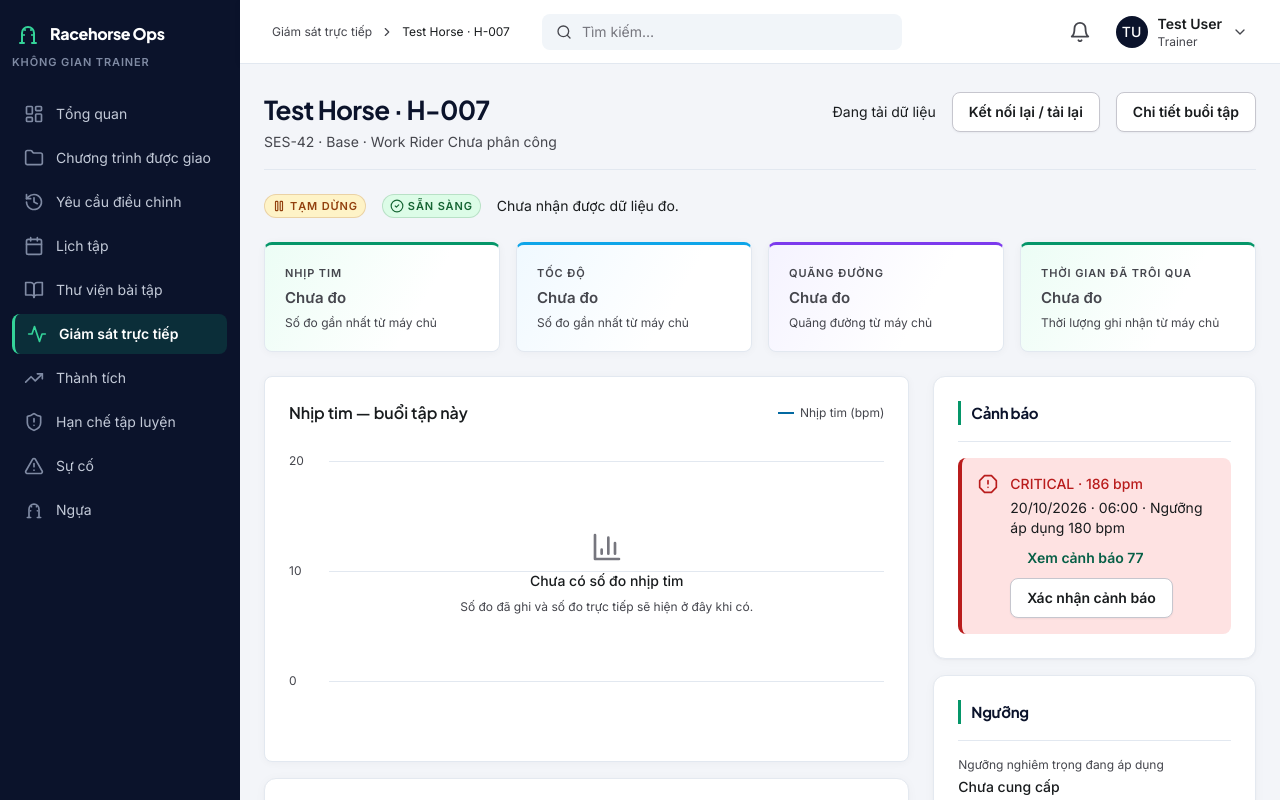
allows TRAINER to acknowledge from detail using only the approved payload
The width and height of the screenshot is (1280, 800).
Click the button "Xem cảnh báo 77" at (1085, 558), box x1=1010 y1=538 x2=1161 y2=578
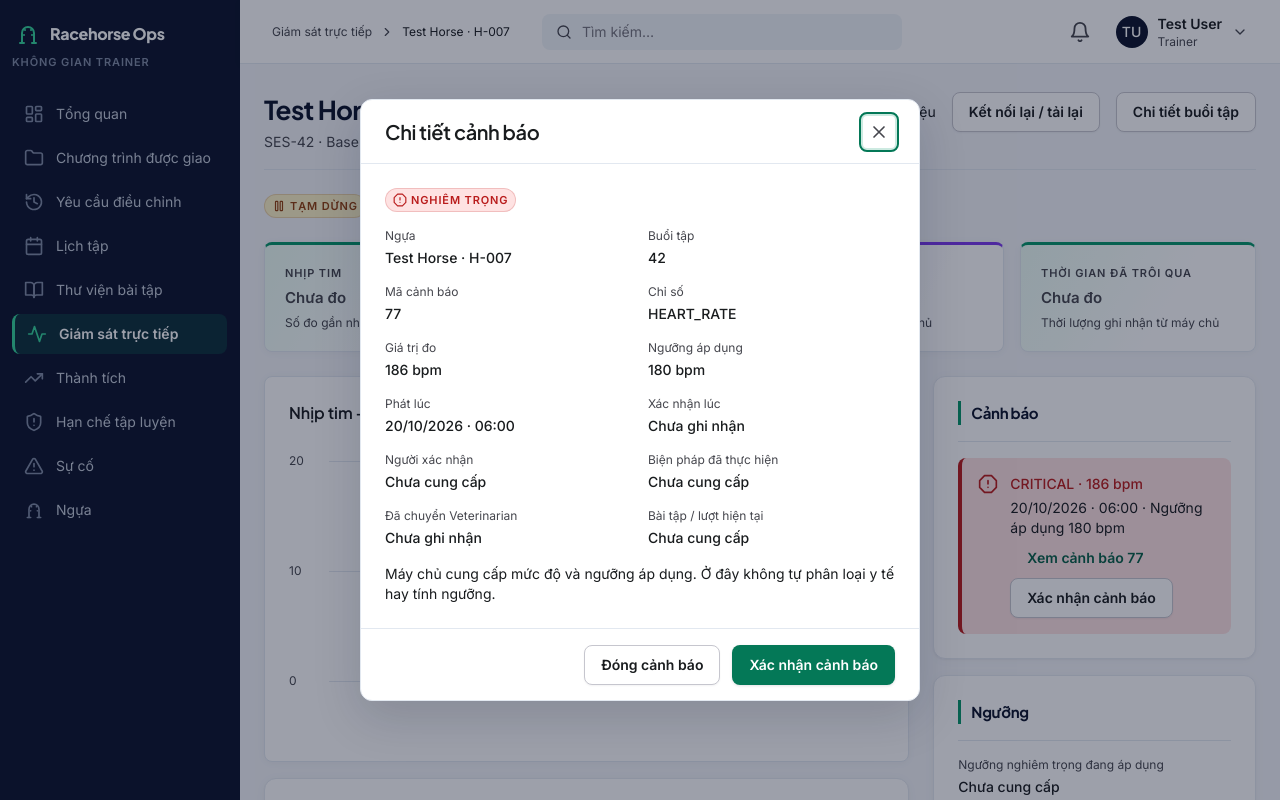
Click the button "Xác nhận cảnh báo" at (814, 664), box x1=732 y1=644 x2=895 y2=684
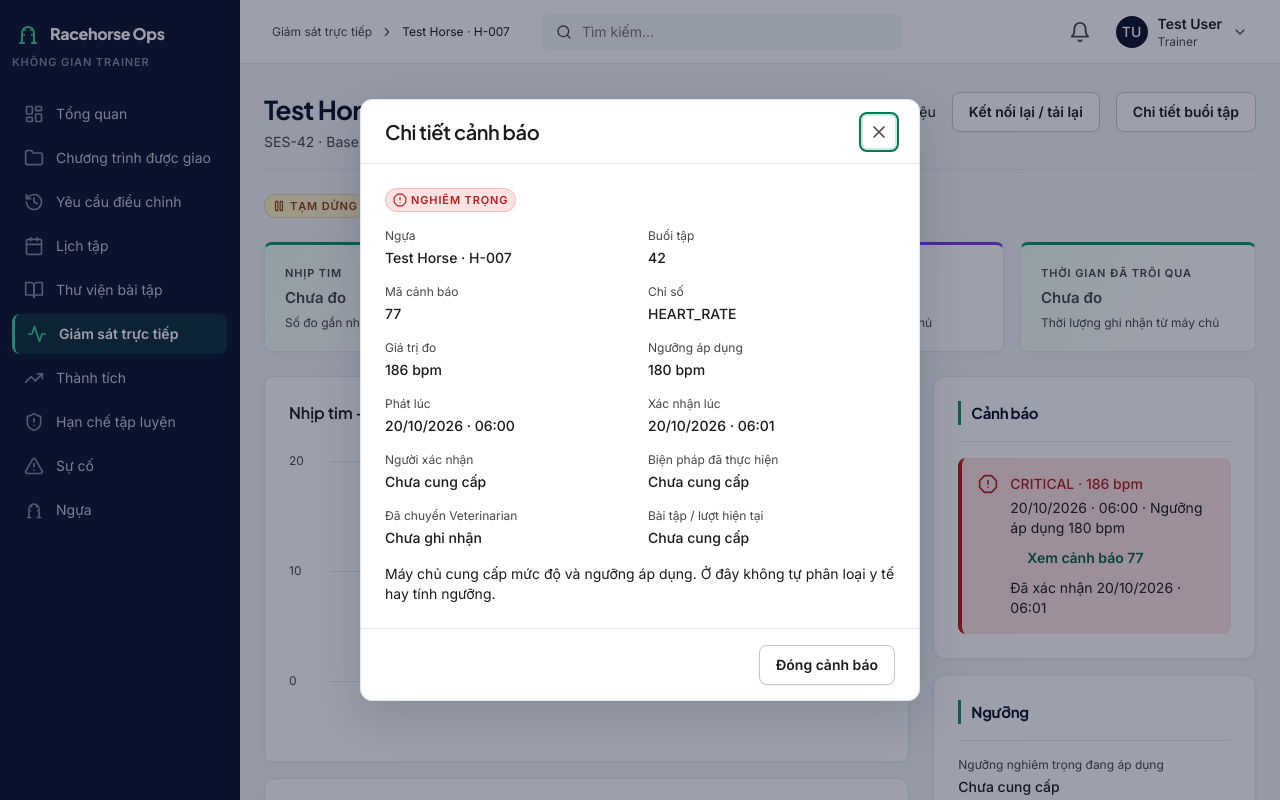
Now the dialog "Chi tiết cảnh báo" is shown, box x1=360 y1=99 x2=920 y2=701
Now the button "Xác nhận cảnh báo" is gone
